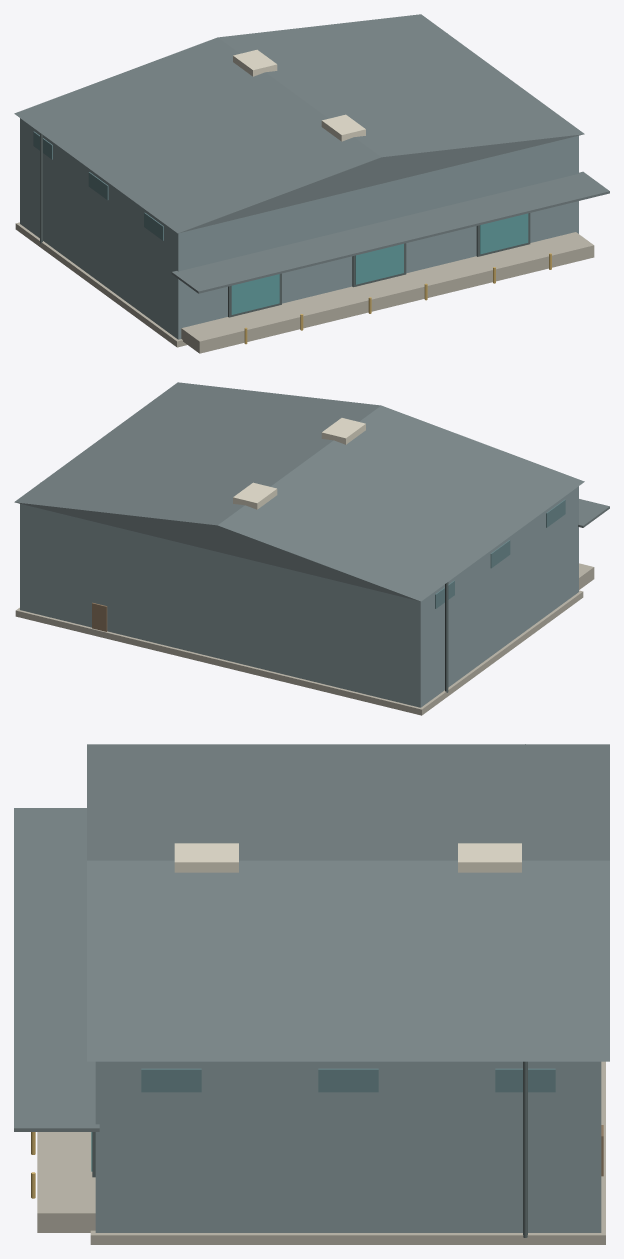
3 renders of one model, top to bottom at view 1: azimuth 30°, elevation 25°; view 2: azimuth 150°, elevation 25°; view 3: azimuth 270°, elevation 25°, orthographic. The views are drawn at different scales.
Size of the model in its own units: 39 by 13.28 by 30.65.
